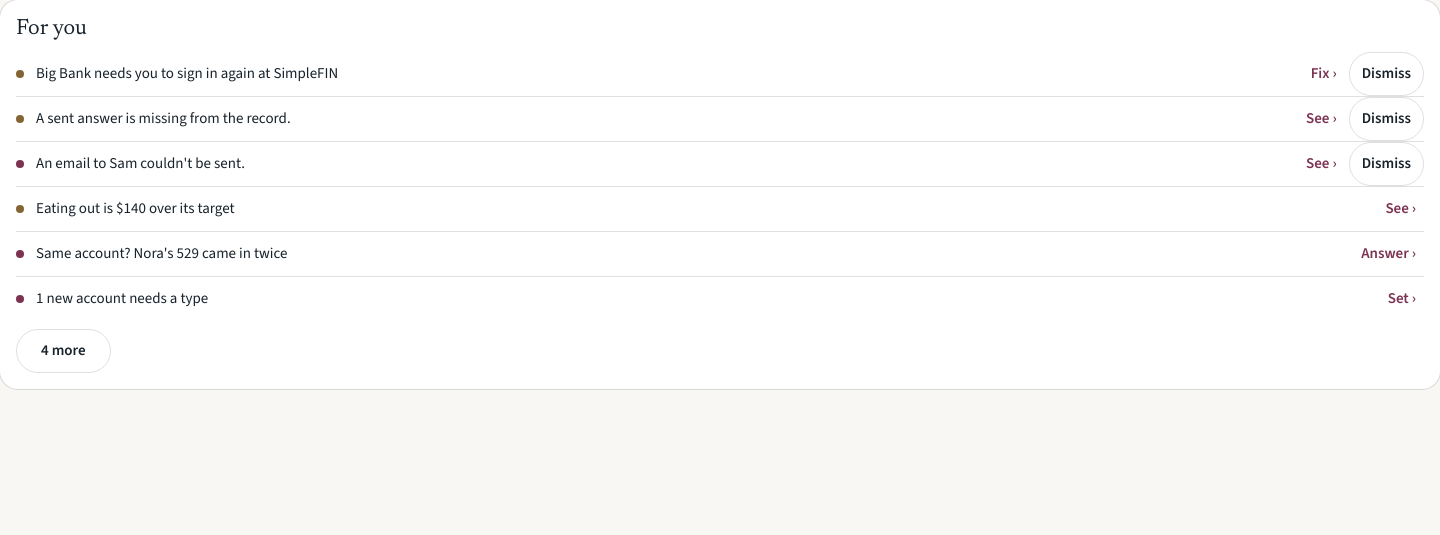
Test: For you (Home spec, section 2) › shows six rows, then "{n} more" shows the rest in place, each row linking where it should
The image size is (1440, 535).
expect the number of list items is 6: met, box left=16, top=52, right=1424, bottom=96; left=16, top=96, right=1424, bottom=140; left=16, top=140, right=1424, bottom=186; left=16, top=186, right=1424, bottom=230; left=16, top=230, right=1424, bottom=276; left=16, top=276, right=1424, bottom=320
Click the button "4 more".
click(63, 350)  # box left=16, top=328, right=111, bottom=372
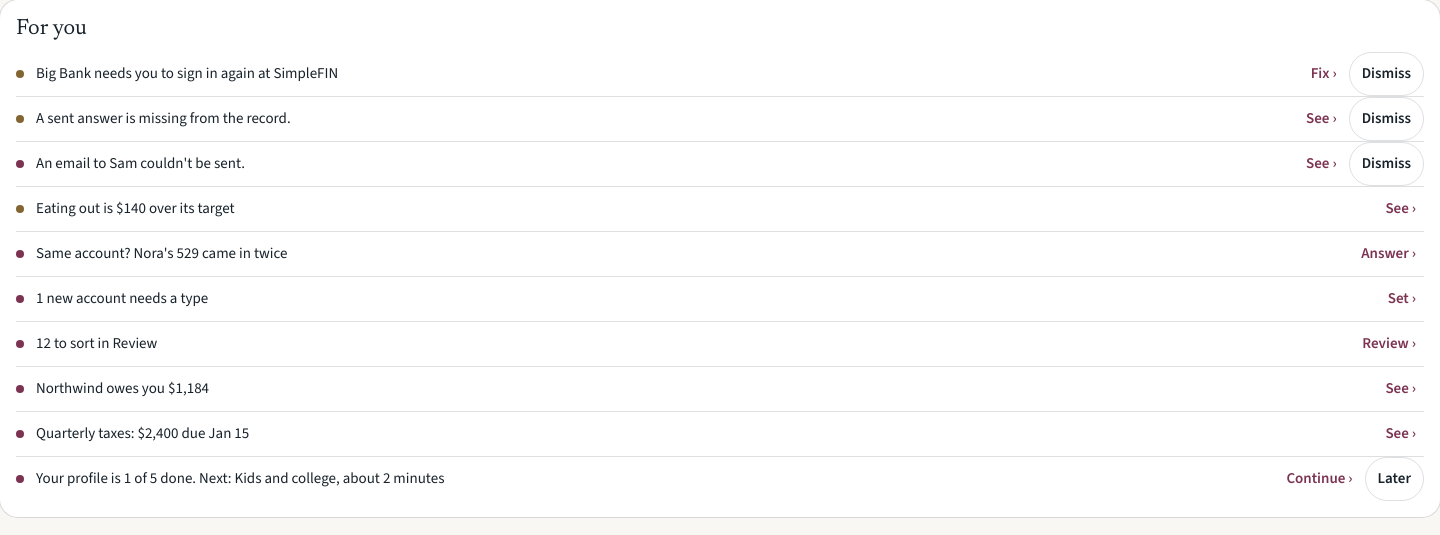
expect the number of list items is 10: met
expect the button "more" is gone: met
